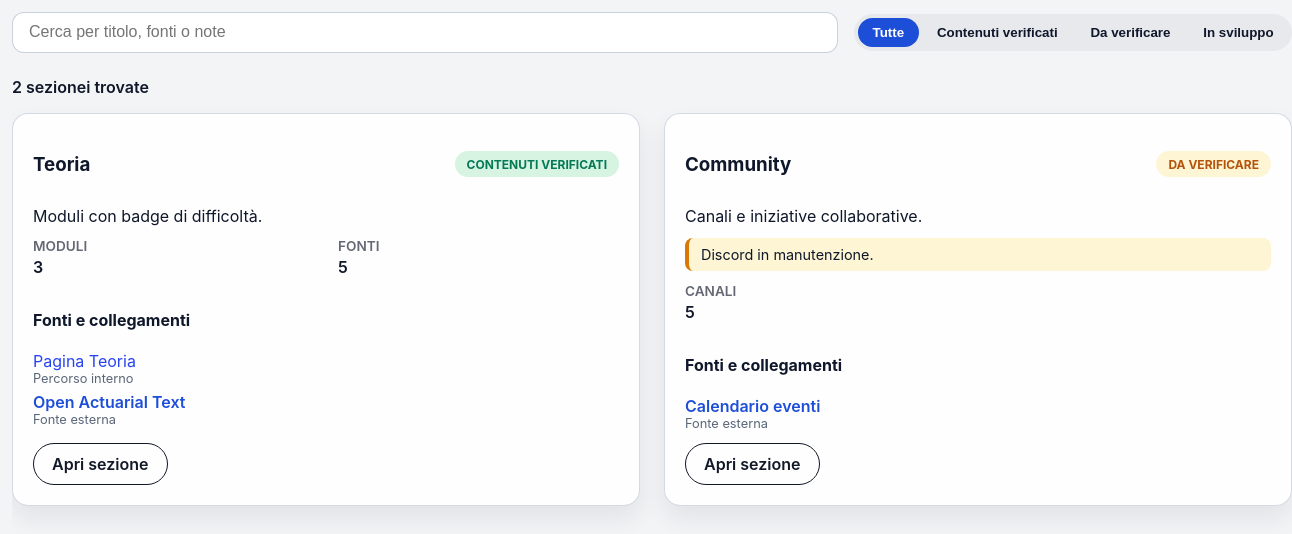
Test: SectionAuditBoard › filters sections by search query
Step 1. Type "open actuarial" into the search field → (425, 32), box left=12, top=12, right=838, bottom=53
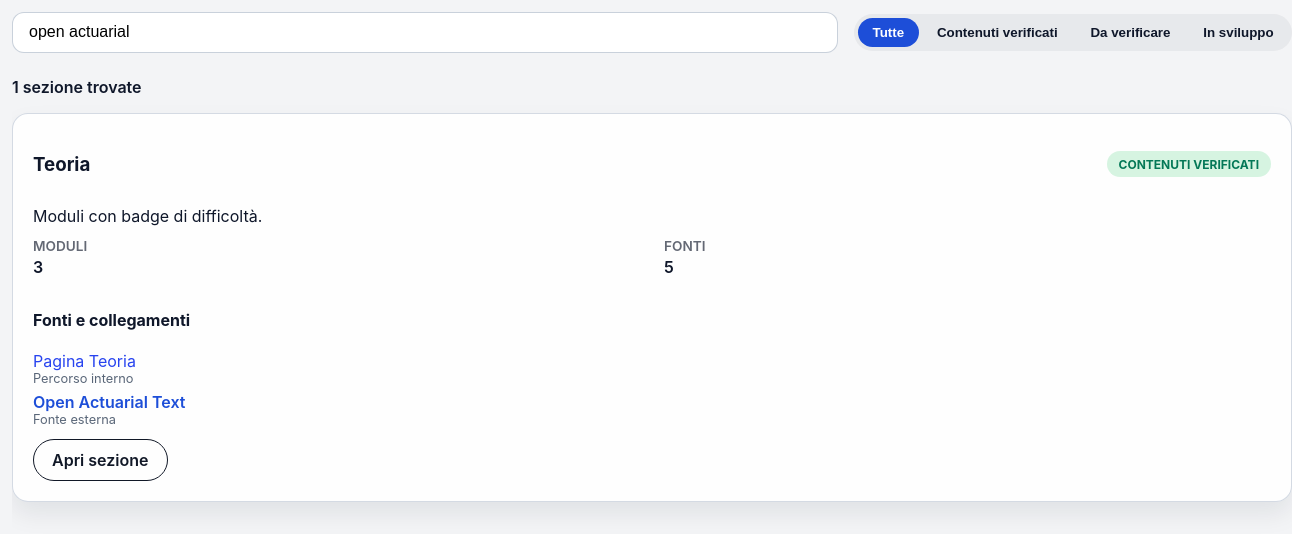
Check: the heading "Teoria" is shown, box left=33, top=152, right=90, bottom=176
Check: the heading "Community" is gone
